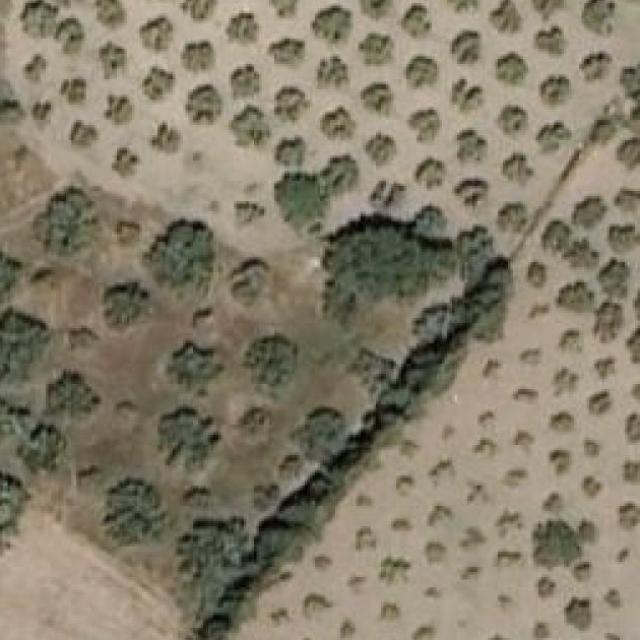Tree: (332, 221, 457, 303), (144, 222, 216, 288), (157, 408, 220, 473), (109, 484, 164, 554), (0, 311, 49, 382), (42, 191, 98, 252), (168, 340, 224, 400), (0, 462, 34, 559), (296, 406, 348, 466), (530, 516, 584, 570), (243, 333, 300, 384), (53, 374, 98, 428), (274, 176, 323, 224), (104, 282, 149, 334), (348, 346, 394, 396), (229, 255, 267, 306), (495, 148, 538, 189), (312, 6, 352, 47), (551, 235, 596, 270), (20, 0, 59, 39), (274, 84, 310, 125), (322, 153, 358, 194), (185, 84, 220, 125), (139, 15, 175, 54), (556, 280, 596, 314), (457, 128, 488, 169), (599, 257, 630, 298), (406, 108, 442, 143), (581, 0, 615, 37), (236, 110, 269, 148), (591, 303, 622, 343), (449, 77, 483, 113), (413, 155, 447, 191), (401, 3, 432, 42), (405, 54, 439, 89), (571, 196, 606, 230), (239, 404, 274, 438), (360, 82, 393, 118), (535, 123, 571, 156), (226, 11, 259, 47), (622, 64, 640, 130), (53, 15, 83, 54), (0, 236, 19, 297), (540, 74, 574, 108), (141, 67, 175, 101), (495, 52, 528, 87), (180, 42, 215, 75), (564, 594, 592, 633), (314, 57, 347, 90), (358, 34, 391, 67), (231, 64, 261, 100), (320, 108, 356, 138), (540, 219, 571, 253), (498, 103, 528, 138), (449, 32, 480, 65), (490, 0, 520, 34), (378, 555, 411, 585), (98, 41, 124, 79), (535, 26, 566, 57), (66, 323, 97, 354), (366, 133, 394, 167), (112, 148, 140, 182), (579, 52, 610, 82), (149, 123, 180, 153), (97, 0, 127, 30), (269, 39, 305, 64), (180, 484, 210, 514), (276, 137, 307, 166), (279, 450, 308, 481), (68, 120, 99, 148), (500, 201, 528, 232), (607, 223, 640, 249), (22, 52, 48, 85), (457, 526, 486, 555), (104, 96, 132, 125), (495, 508, 523, 536), (302, 592, 332, 618), (357, 0, 395, 20), (525, 262, 551, 291), (593, 348, 617, 379), (532, 0, 569, 20), (459, 179, 488, 204), (234, 201, 264, 225), (547, 448, 571, 478), (183, 0, 219, 20), (588, 389, 612, 418), (553, 367, 576, 397), (58, 79, 86, 103), (249, 483, 277, 507), (618, 137, 640, 167), (549, 407, 574, 433), (434, 458, 459, 484), (427, 504, 455, 527), (393, 473, 417, 499), (618, 500, 640, 528), (615, 188, 640, 212), (503, 468, 528, 492), (267, 0, 300, 18), (464, 480, 488, 504), (446, 0, 480, 16), (571, 560, 594, 583), (482, 362, 503, 387), (581, 475, 601, 501), (579, 519, 599, 545), (625, 328, 640, 362), (513, 387, 538, 407), (264, 609, 290, 628), (424, 541, 447, 562), (540, 494, 564, 514), (625, 412, 640, 443), (513, 430, 533, 453), (517, 348, 541, 367), (355, 531, 374, 555), (535, 575, 554, 598), (477, 438, 496, 461), (347, 575, 366, 598), (393, 514, 414, 534), (604, 590, 623, 611), (477, 407, 496, 428), (584, 438, 603, 458), (381, 602, 401, 621), (32, 101, 51, 120), (622, 463, 640, 483), (531, 622, 551, 640), (410, 626, 434, 640), (462, 565, 483, 580), (601, 633, 622, 640)
